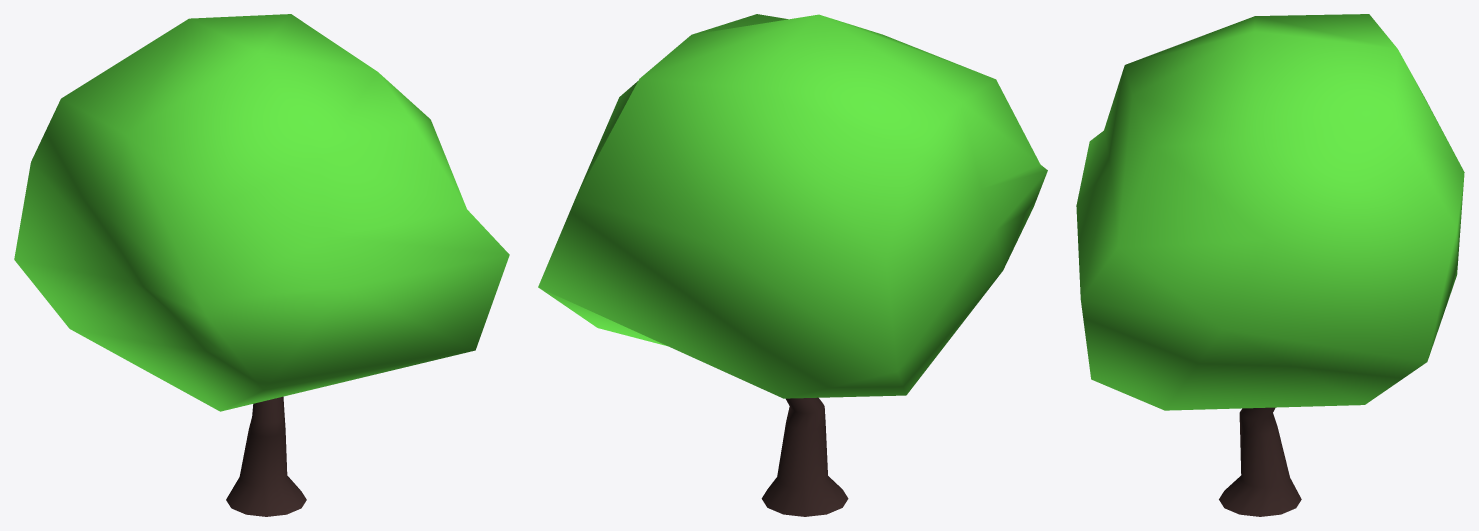
Rendered from tree_02.glb.
3 renders of one model, left to right at view 1: azimuth 30°, elevation 25°; view 2: azimuth 150°, elevation 25°; view 3: azimuth 270°, elevation 25°, orthographic. The views are drawn at different scales.
Visible parts, largest first — view 1: TREE_02-COL; view 2: TREE_02-COL; view 3: TREE_02-COL.
Boxes of the visible parts, x1,y1,x2,y2 form: TREE_02-COL: (14, 14, 509, 516); TREE_02-COL: (538, 14, 1047, 516); TREE_02-COL: (1076, 14, 1464, 516).
Size of the model in its own units: 9.63 by 12.3 by 9.35.
